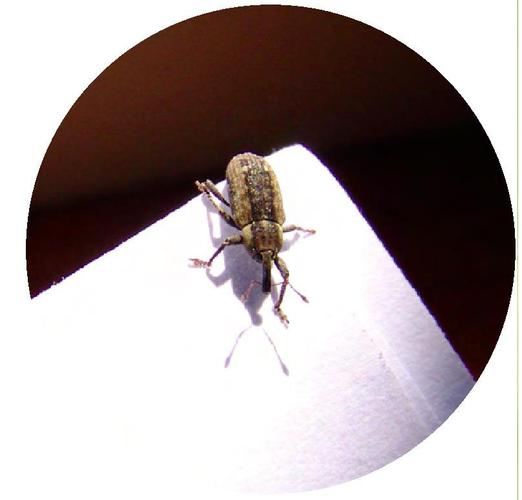Curculionidae: (189, 152, 317, 327)
